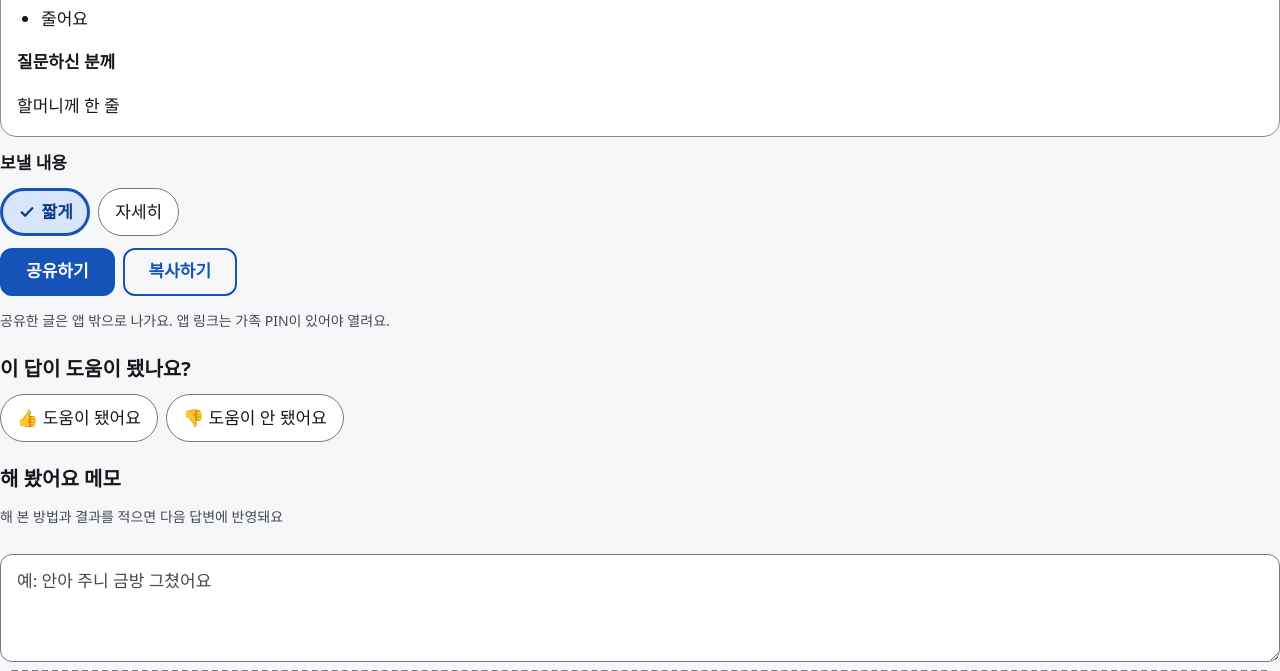
Scenario: 이유 고르기 (라디오 그룹) › 👎 를 누르면 패널: 라디오 4개(aria-checked), 고르기 전엔 버튼이 막히고 안내가 붙는다
This screenshot has width=1280, height=671.
(page scrolled)
Click the button "👎 도움이 안 됐어요" at (255, 418), box top-left (166, 394), bottom-right (344, 442)
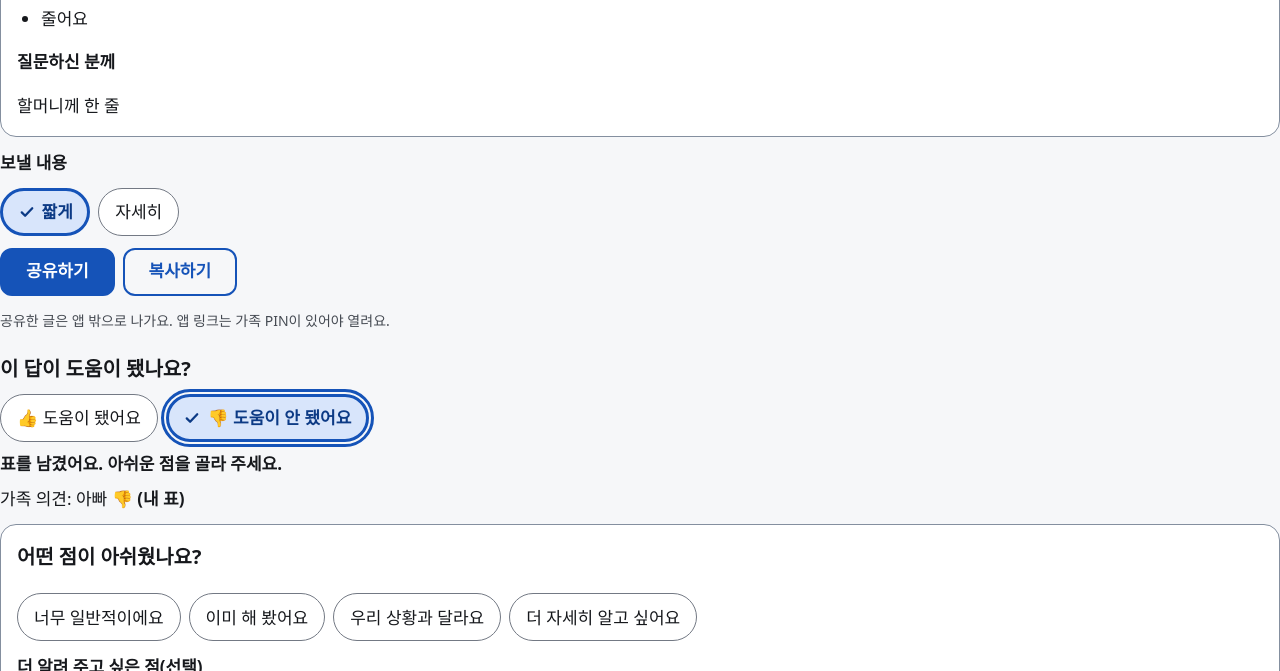
Result: the element with test id "ask-reask-panel" shows "어떤 점이 아쉬웠나요?" at top-left (17, 544), bottom-right (201, 570)
고르면 안내가 사라지고 버튼이 켜진다
Click the radio button labelled "이미 해 봤어요" at (257, 617), box top-left (188, 593), bottom-right (325, 641)
(page scrolled)
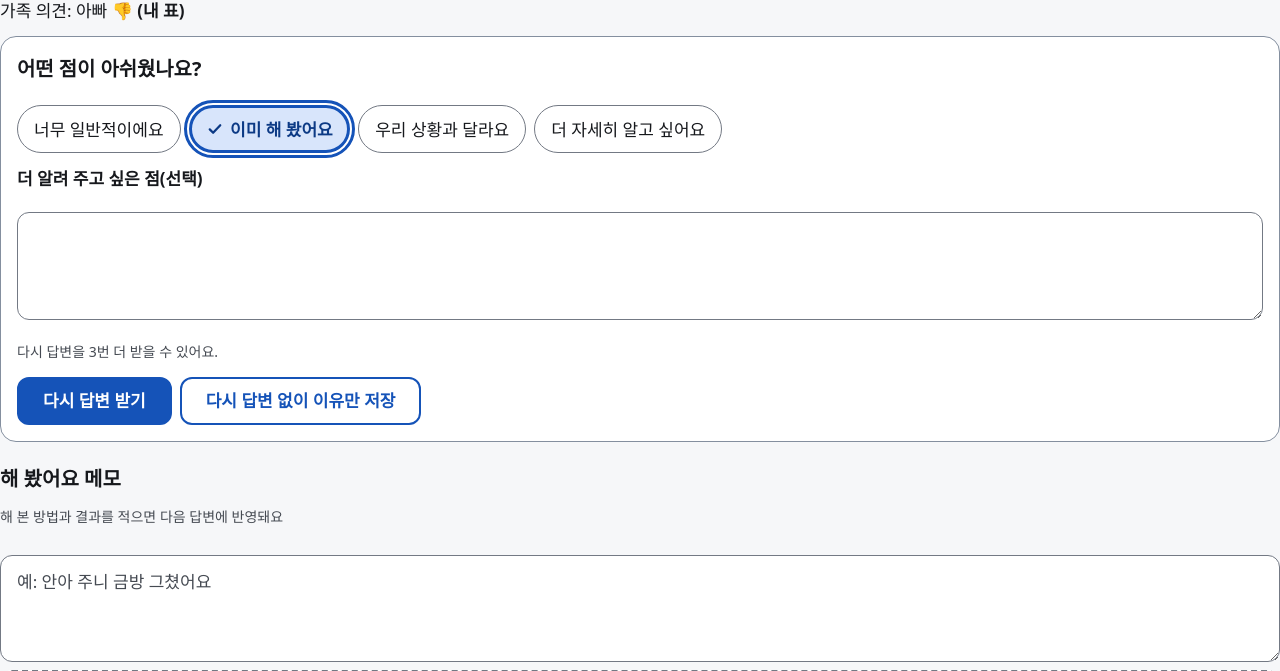
Result: the button "다시 답변 받기" is enabled at top-left (17, 378), bottom-right (172, 426)
